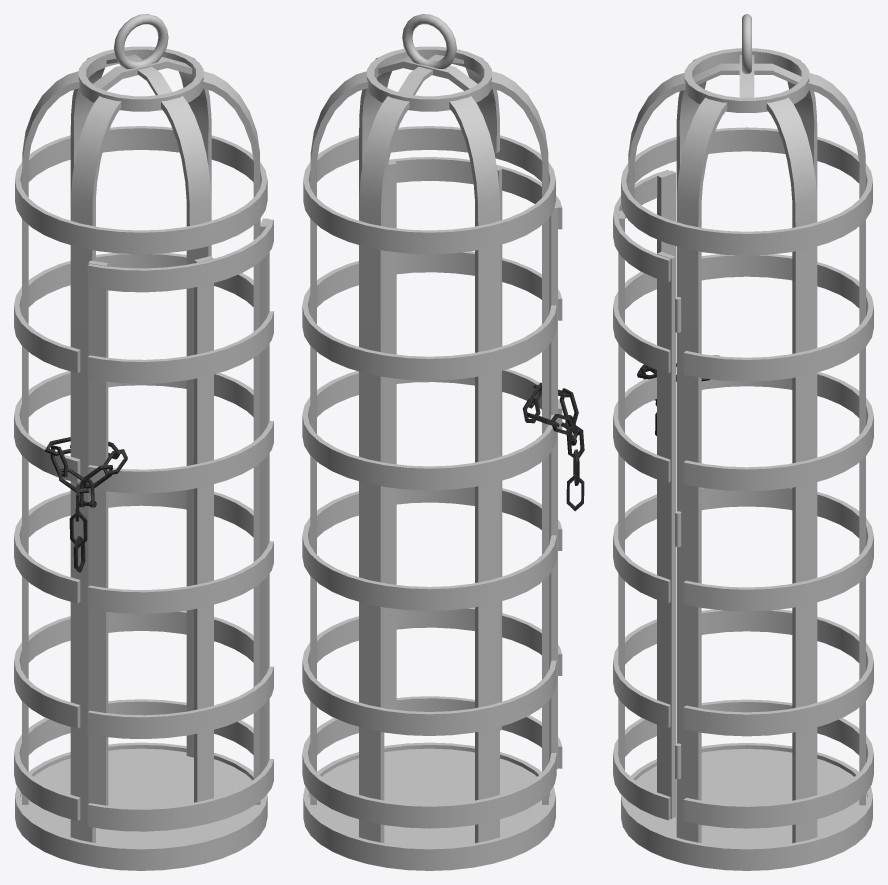
File: gibbet_02.fbx
3 renders of one model, left to right at view 1: azimuth 30°, elevation 25°; view 2: azimuth 150°, elevation 25°; view 3: azimuth 270°, elevation 25°, orthographic.
Parts seen in each view (by area): view 1: gibbet_02, gibbet_02_door, gibbet_02_chainLock; view 2: gibbet_02, gibbet_02_door, gibbet_02_chainLock; view 3: gibbet_02, gibbet_02_door.
Boxes of the visible parts, x1=… form: gibbet_02: x1=14, y1=14, x2=267, y2=870; gibbet_02_door: x1=87, y1=218, x2=273, y2=831; gibbet_02_chainLock: x1=45, y1=437, x2=127, y2=572; gibbet_02: x1=302, y1=14, x2=556, y2=870; gibbet_02_door: x1=384, y1=157, x2=562, y2=768; gibbet_02_chainLock: x1=522, y1=382, x2=584, y2=511; gibbet_02: x1=621, y1=14, x2=873, y2=870; gibbet_02_door: x1=613, y1=170, x2=681, y2=820.
Size of the model in its own units: 76.13 by 260 by 76.6.
